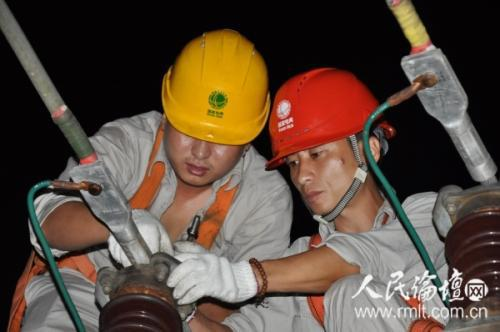helmet: (153, 15, 278, 191), (266, 58, 395, 217)
